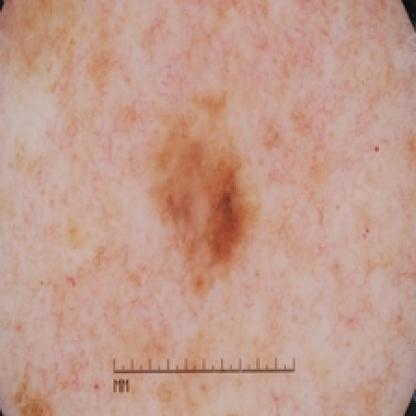Skin_Cancer-Malignant: (150, 86, 262, 304)
